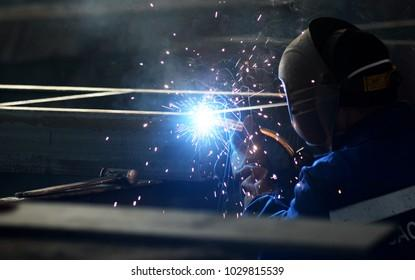gloves: (229, 116, 277, 201)
